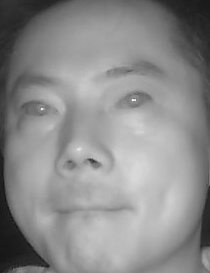eye: (18, 95, 60, 121), (111, 89, 155, 113)
mouth: (54, 189, 136, 229)
